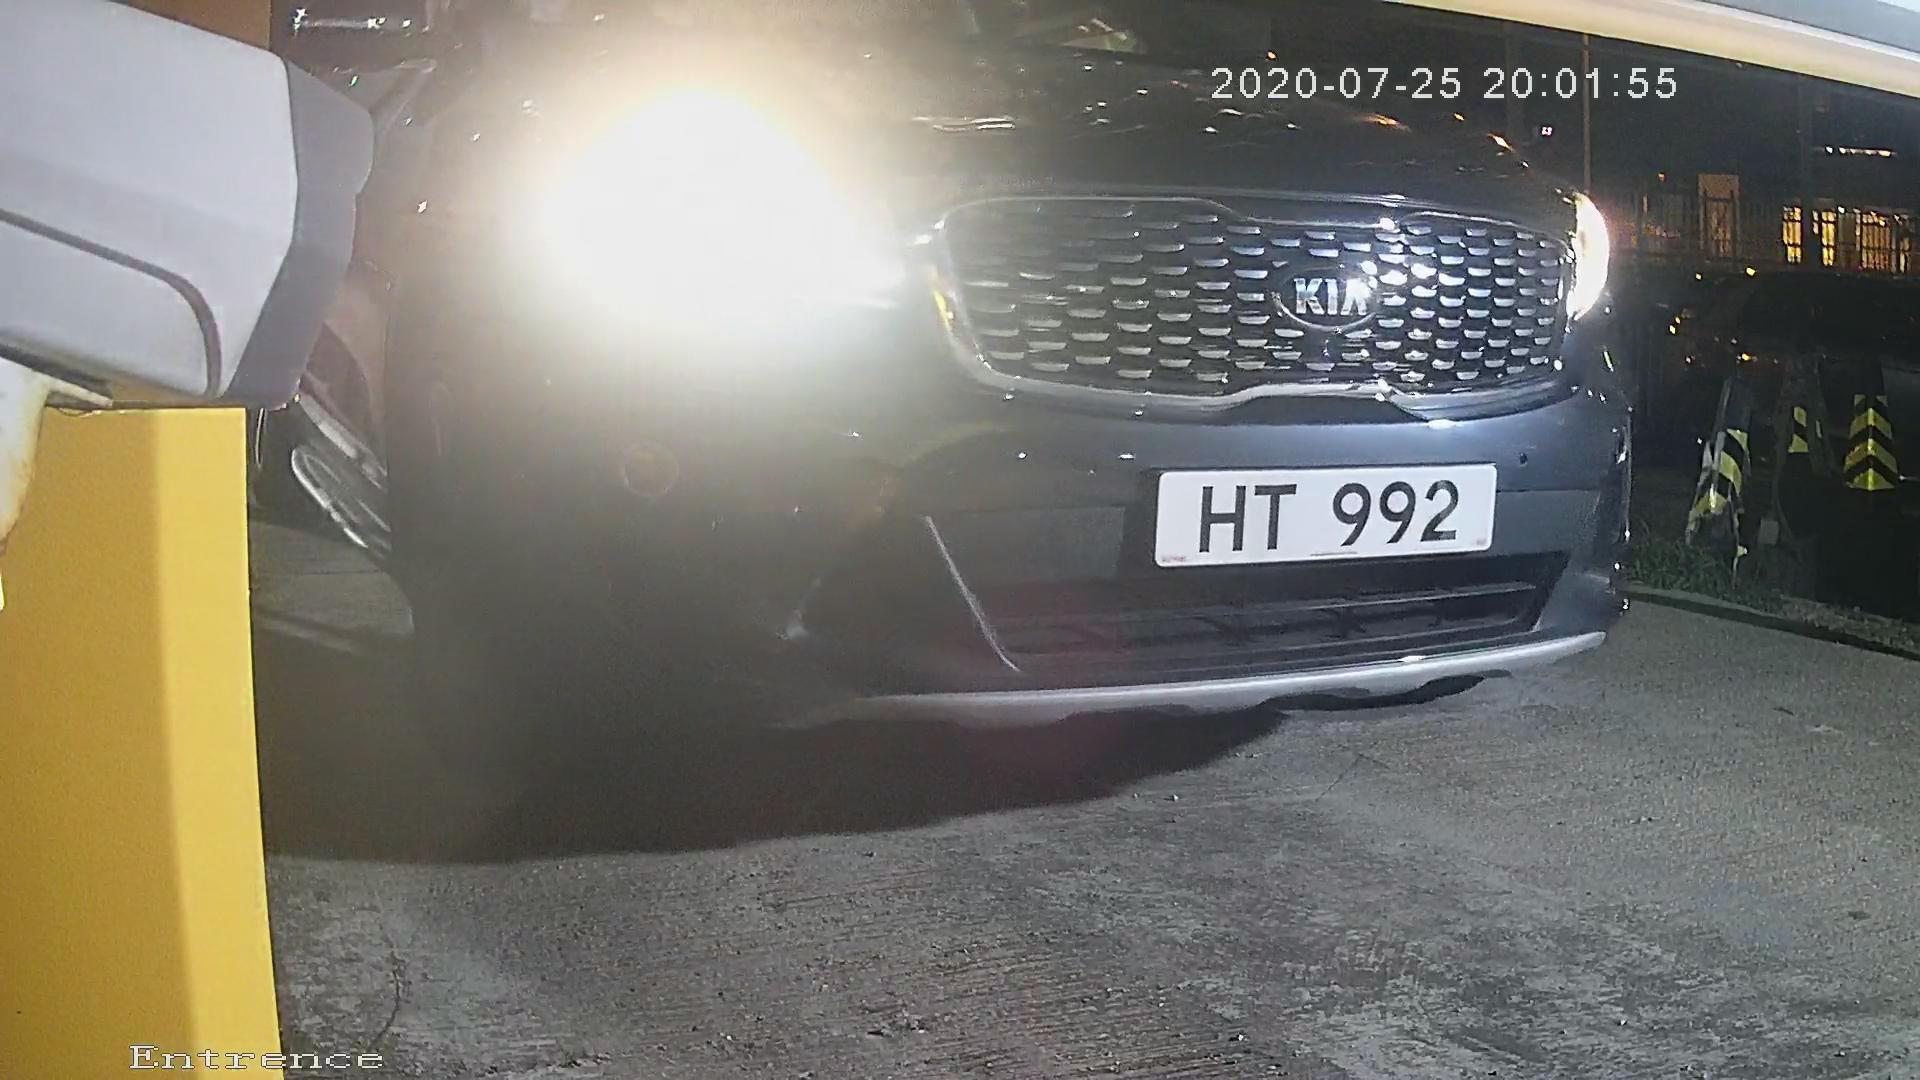privatecar: (343, 5, 1731, 791)
